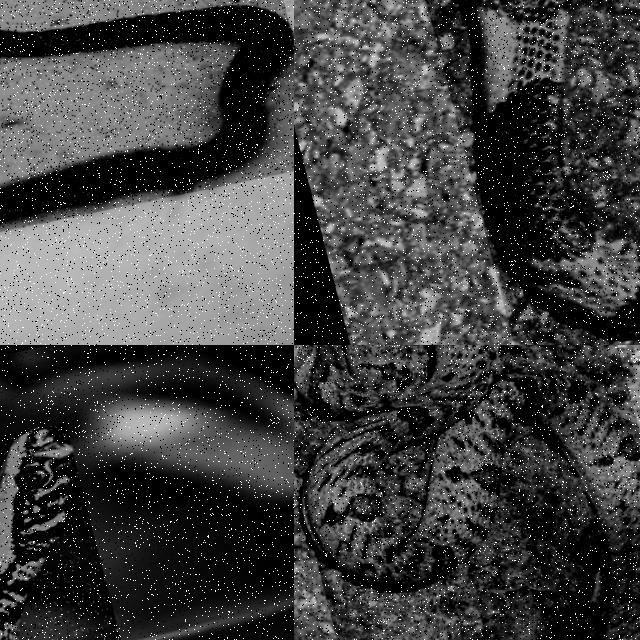Bungarus candidus: (463, 0, 639, 336)
Calloselasma rhodostoma: (294, 345, 639, 639)
Chrysopelea ornata: (0, 6, 292, 221), (0, 429, 71, 639)
